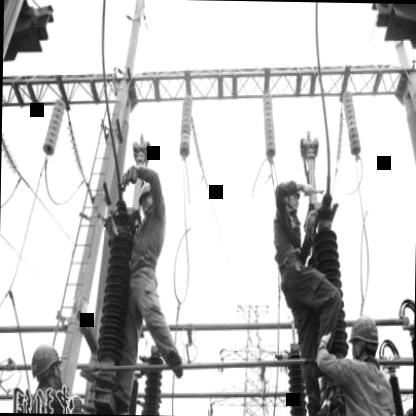helmet: (346, 312, 381, 364), (28, 340, 64, 389), (134, 180, 156, 216)
